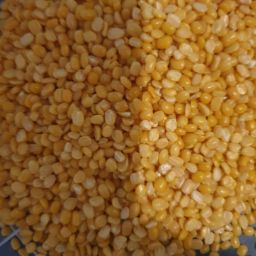Red Split Lentils(malka masar): (3, 3, 256, 256), (31, 45, 254, 256), (47, 13, 207, 232)
